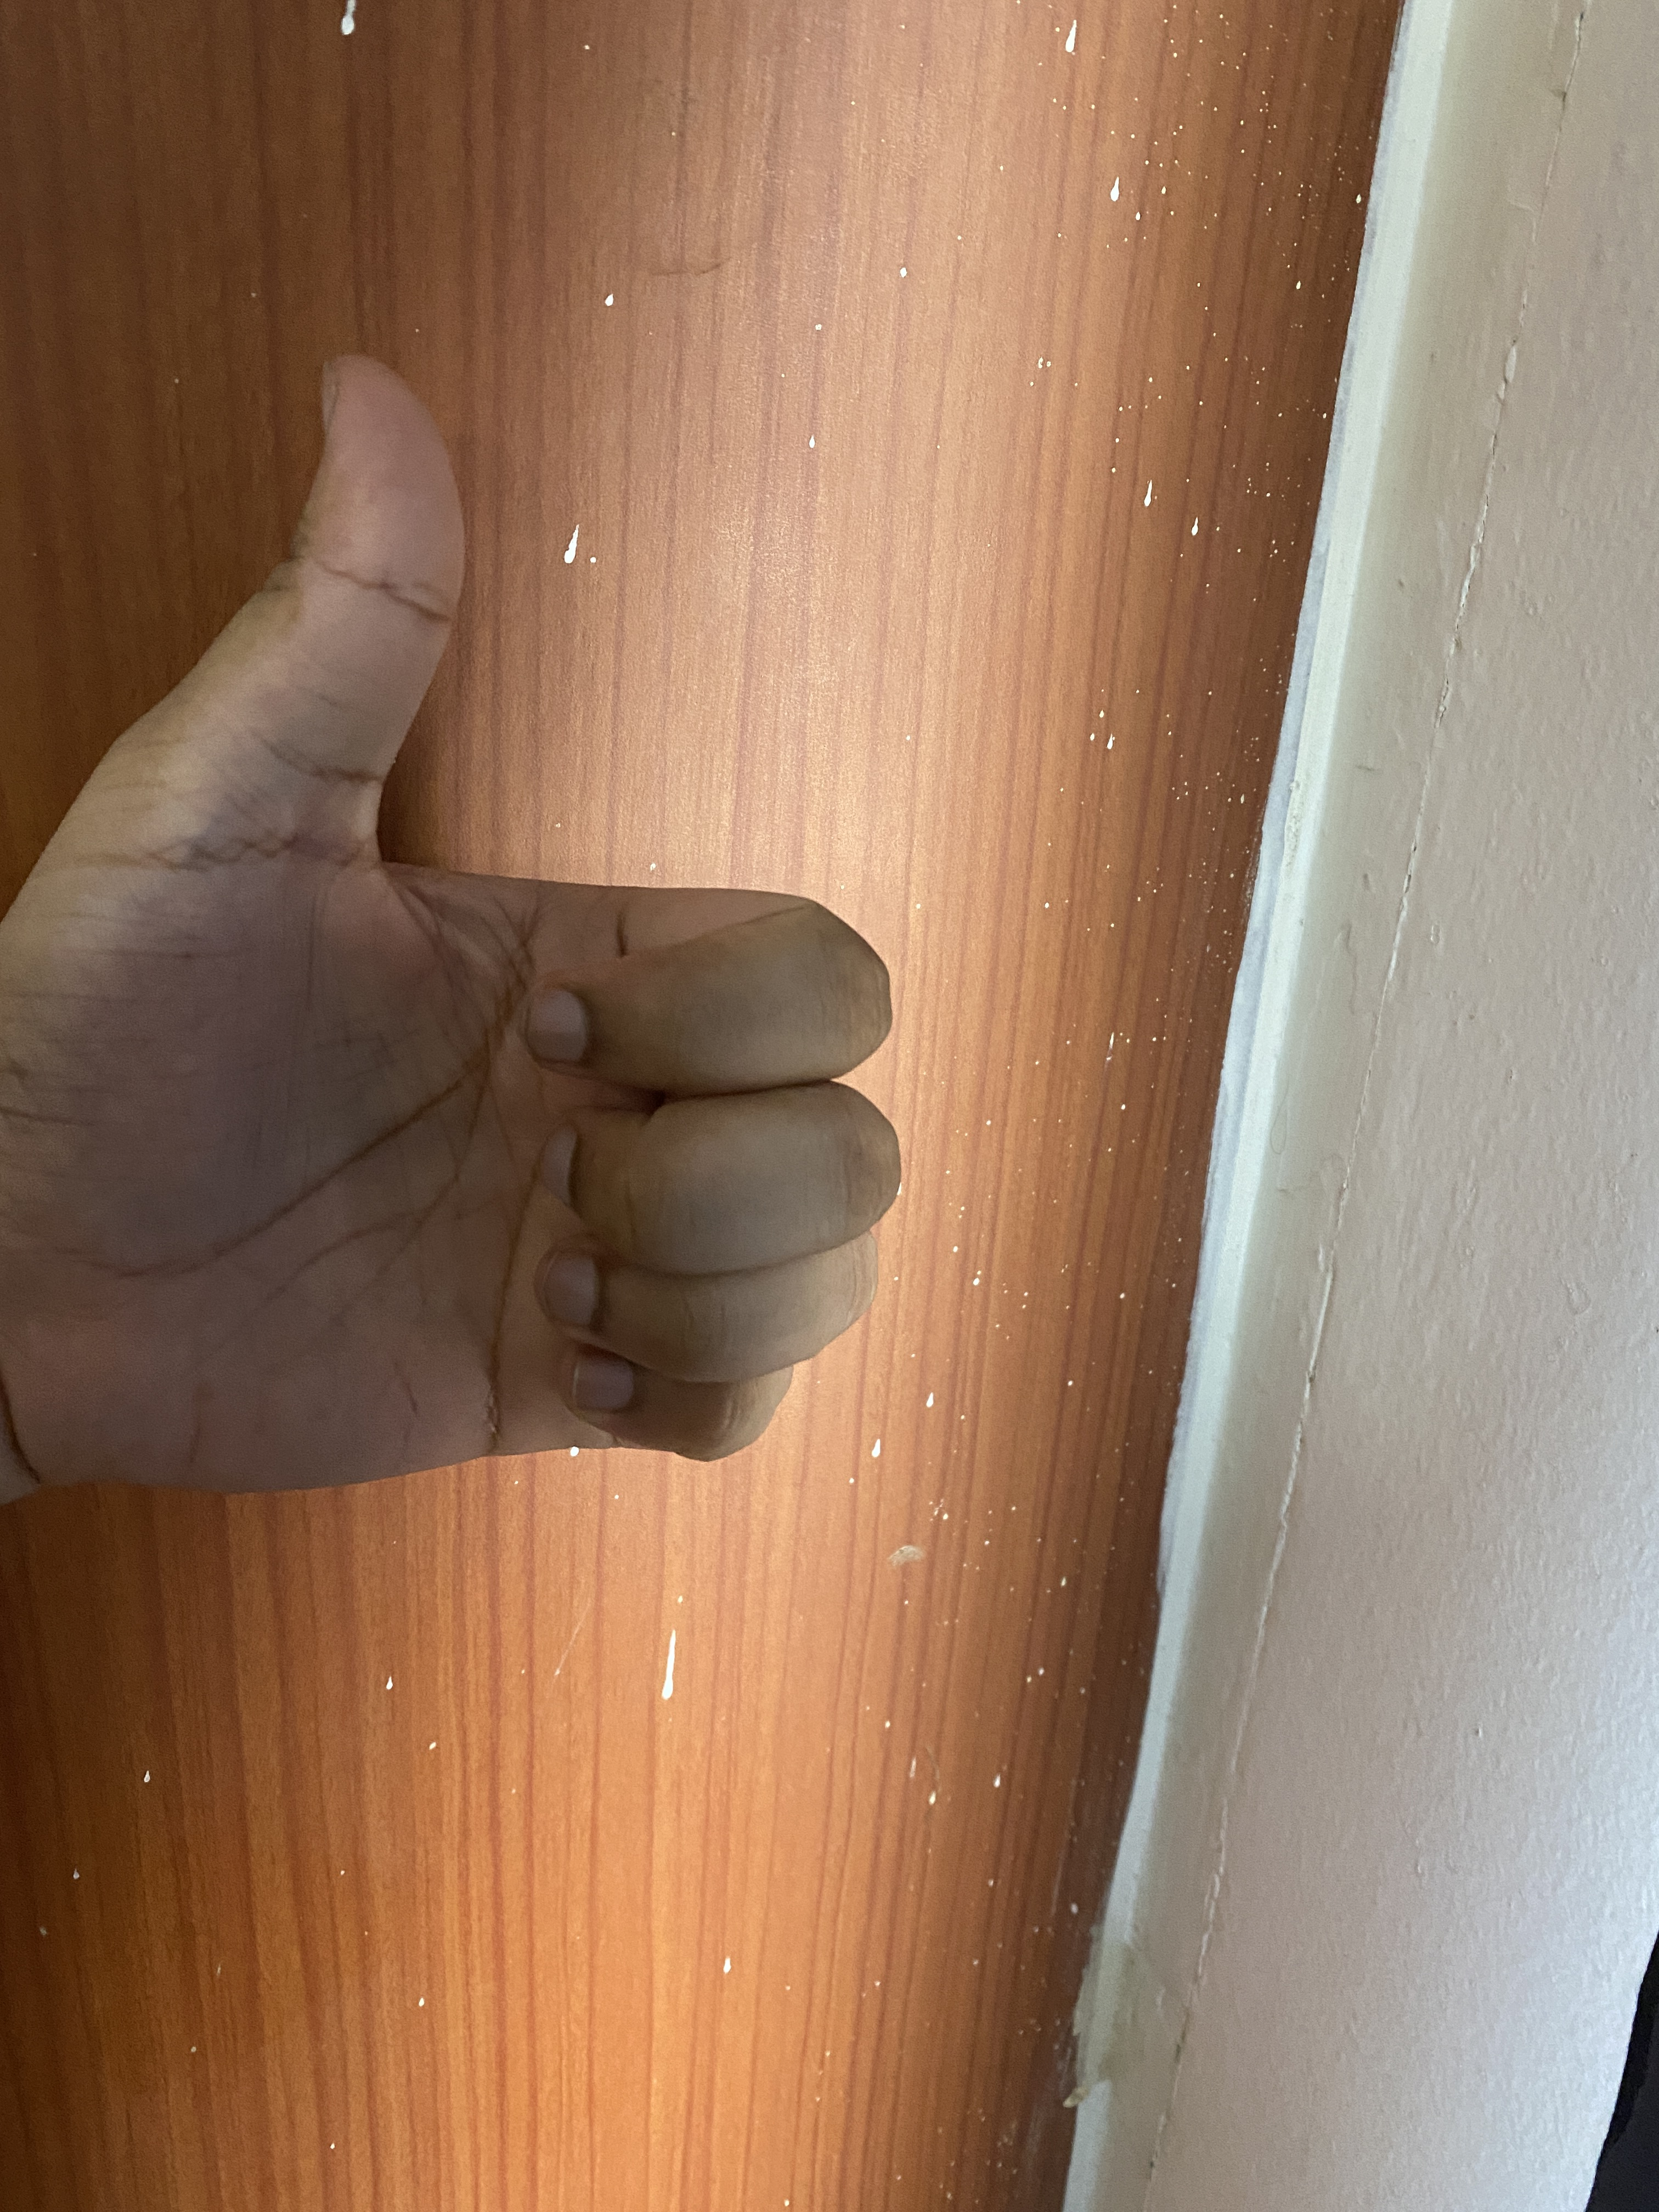up: (14, 326, 1068, 1580)
